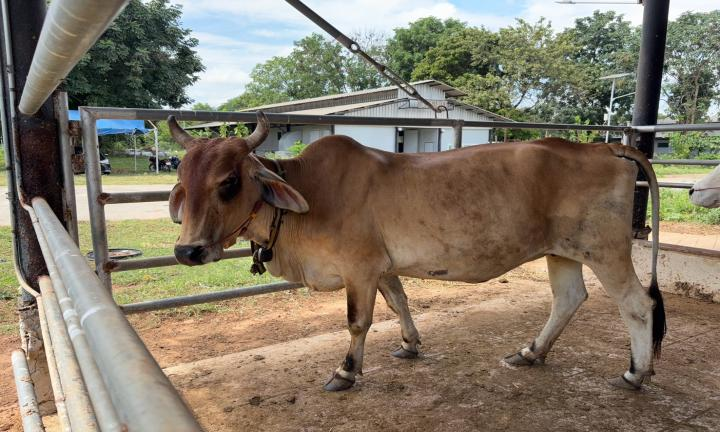Brahman: (169, 112, 665, 391)
